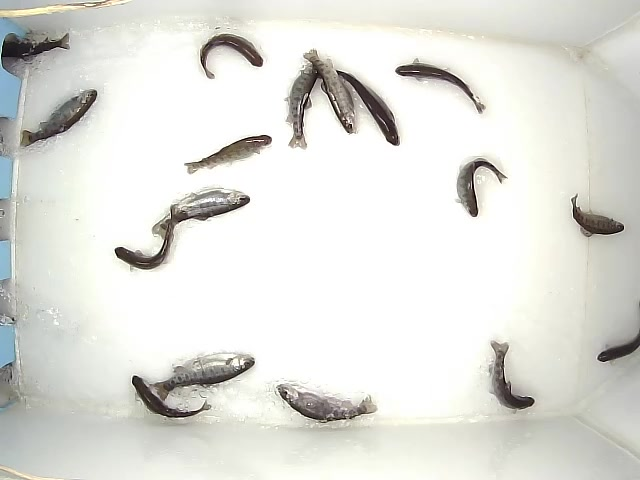fish: (151, 186, 252, 244), (334, 66, 402, 147), (395, 57, 486, 116), (150, 351, 256, 401), (114, 205, 189, 273), (302, 47, 359, 136), (19, 88, 98, 150), (276, 382, 378, 425), (183, 134, 273, 178), (486, 339, 536, 415), (130, 374, 212, 420), (454, 154, 509, 222), (283, 59, 321, 150), (199, 31, 264, 80), (596, 300, 640, 364), (570, 192, 626, 239), (1, 33, 71, 63)
